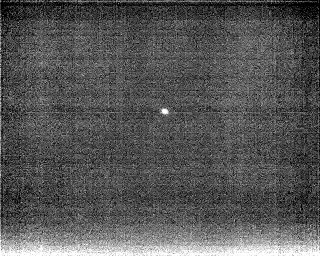AIRPLANE: (159, 106, 170, 117)
